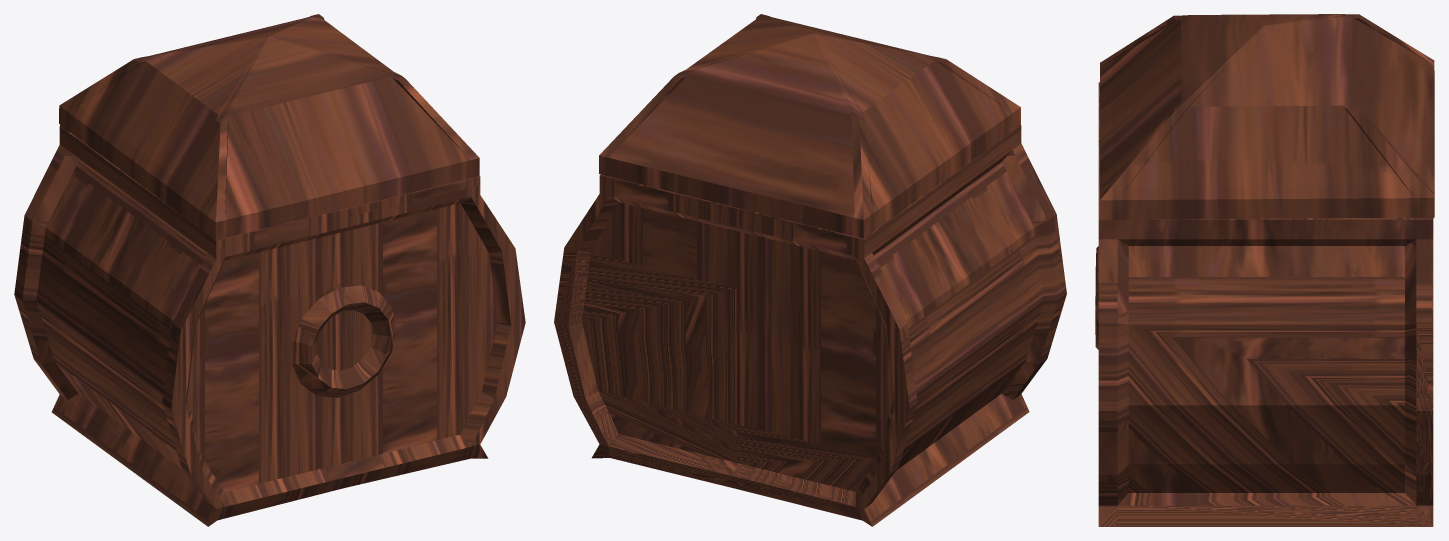
The model's file is Bau.fbx.
3 renders of one model, left to right at view 1: azimuth 30°, elevation 25°; view 2: azimuth 150°, elevation 25°; view 3: azimuth 270°, elevation 25°, orthographic. The views are drawn at different scales.
Parts seen in each view (by area): view 1: pTorus2, pCube2; view 2: pTorus2, pCube2; view 3: pTorus2, pCube2.
Boxes of the visible parts, box(x1,y1,x2,y2) form: pTorus2: box(14, 125, 525, 526); pCube2: box(59, 14, 479, 240); pTorus2: box(554, 125, 1066, 526); pCube2: box(599, 14, 1020, 238); pTorus2: box(1095, 82, 1433, 526); pCube2: box(1100, 14, 1434, 219).
Bounding box in the file's own units: 1.31 × 1.41 × 1.01.
2 materials, 2 textured.
